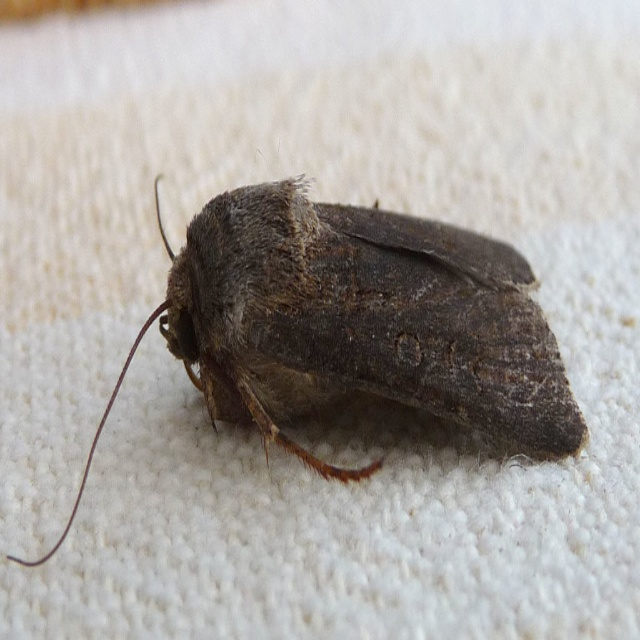Moths and butterflies: (7, 168, 592, 570)
